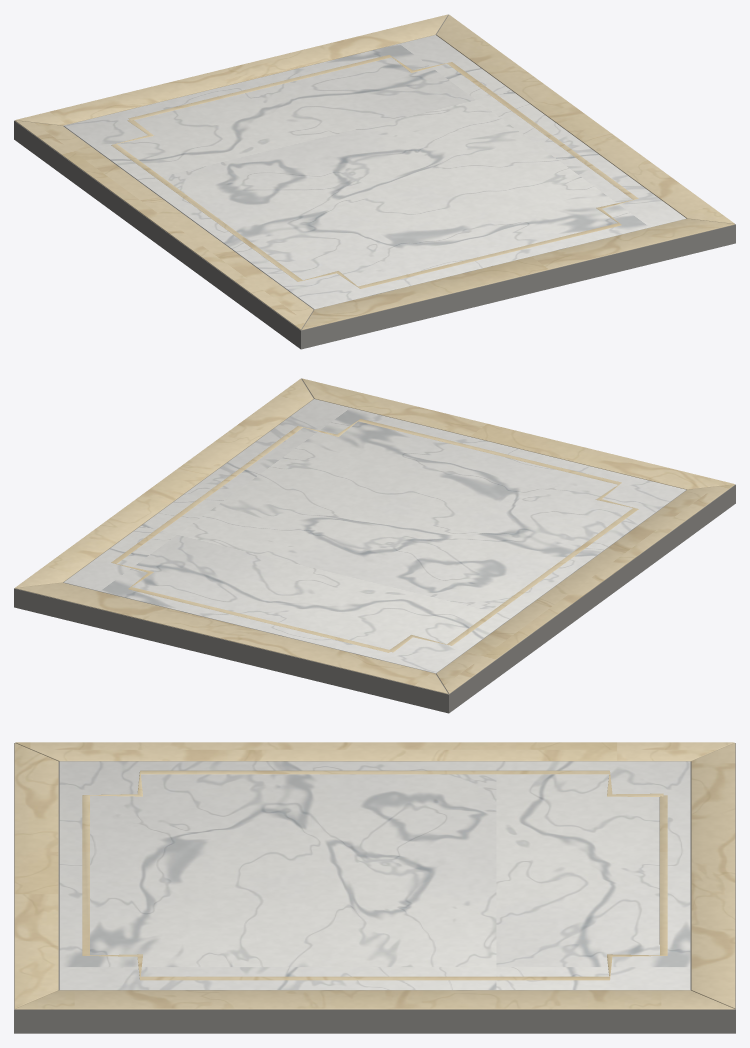
File: floor_KA-DB030.glb
3 views of the same model, one above another, from view 1: azimuth 30°, elevation 25°; view 2: azimuth 150°, elevation 25°; view 3: azimuth 270°, elevation 25° (orthographic). The views are drawn at different scales.
Parts seen in each view (by area): view 1: Floor; view 2: Floor; view 3: Floor.
Part boxes in pixels (bbox=[...]): Floor: bbox=[14, 14, 735, 349]; Floor: bbox=[14, 378, 735, 713]; Floor: bbox=[14, 742, 735, 1033].
Size of the model in its own units: 1.4 by 0.0604 by 1.6.
Materials: 3 (2 with a texture image).
